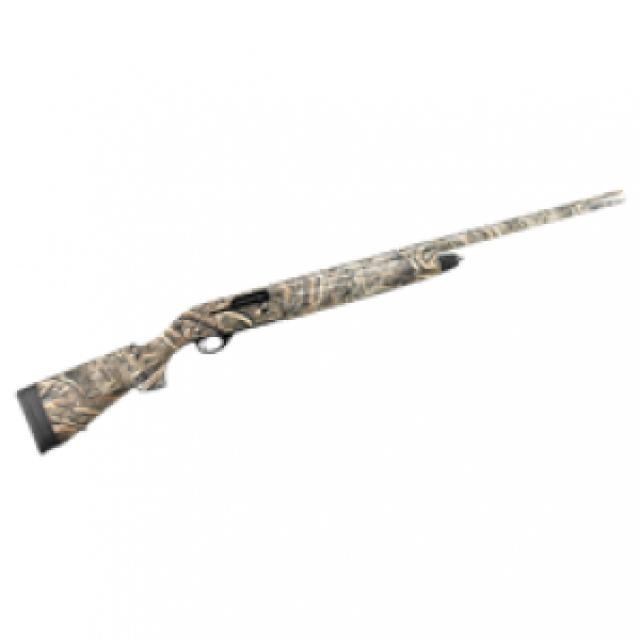rifle: (12, 182, 628, 473)
